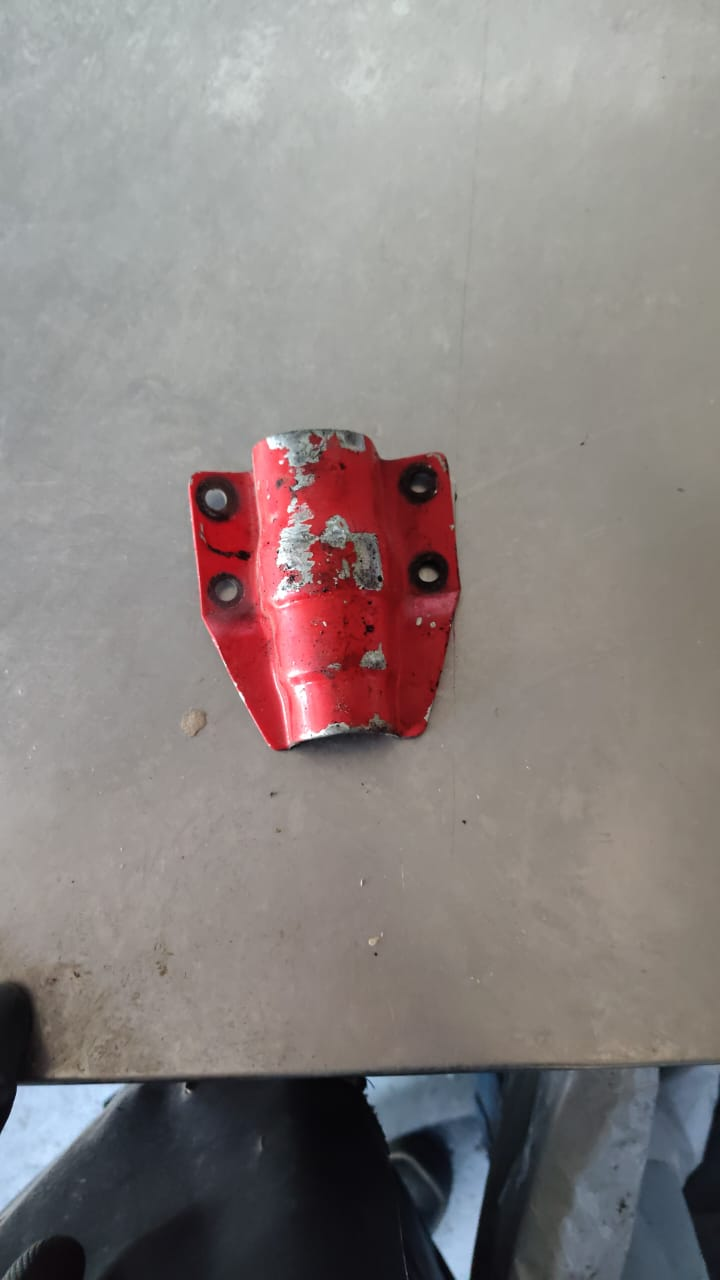Metal: (189, 430, 464, 757)
